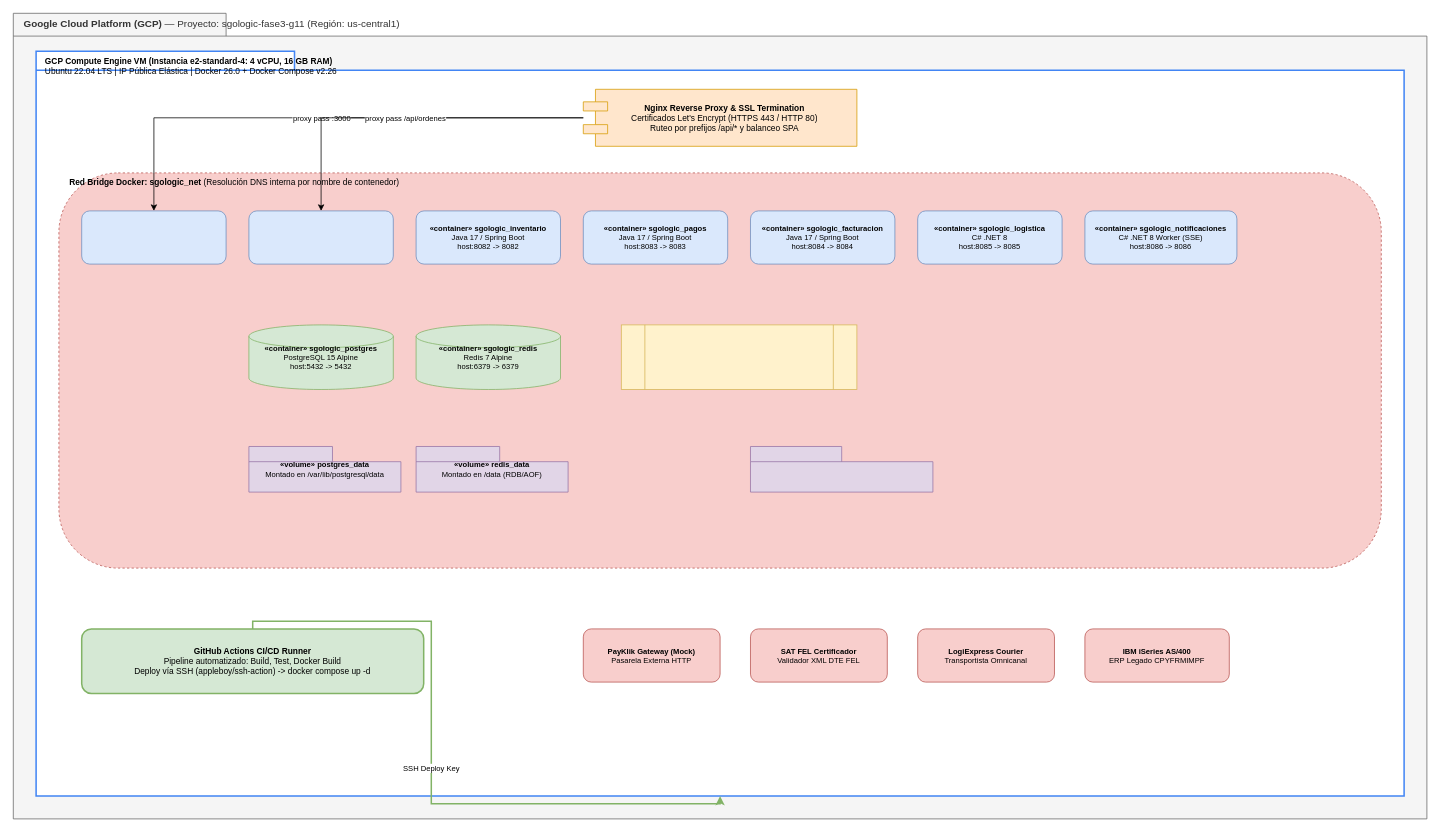
The diagram is 1440 pixels wide and 832 high, and some of its shapes have lost their labels. Here are the shapes that lost their labels. From the top down, the centre of each, then its label:
At point 153,237: "«container» sgologic_frontend React 18 / Vite host:3000 -> 3000".
At point 320,237: "«container» sgologic_ordenes Java 17 / Spring Boot host:8081 -> 8081".
At point 739,357: "«container» sgologic_rabbitmq RabbitMQ 3.13 Management AMQP :5672 | Admin :15672".
At point 841,469: "«volume» facturas_data Montado en /app/uploads (CSV AS400 & XML DTE)".
